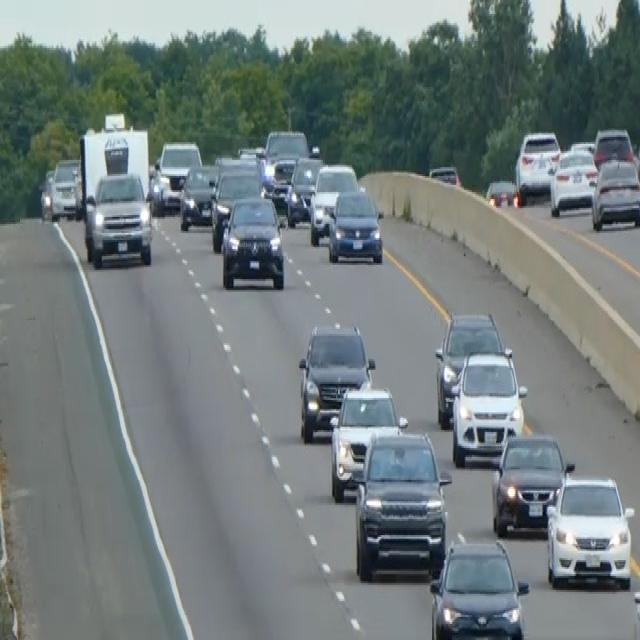car: (353, 427, 451, 581), (545, 470, 634, 590), (428, 537, 529, 638), (328, 382, 407, 502), (297, 320, 374, 443), (450, 345, 527, 466), (490, 430, 573, 537), (434, 310, 504, 428), (220, 194, 285, 290), (209, 162, 264, 250), (327, 185, 384, 263), (309, 160, 358, 245), (151, 137, 202, 213), (590, 155, 639, 231), (549, 144, 598, 217), (514, 128, 561, 201), (285, 153, 323, 226), (178, 162, 218, 231), (261, 126, 309, 178), (262, 153, 299, 219), (49, 156, 81, 218), (593, 124, 634, 169), (213, 151, 261, 178), (484, 176, 519, 208), (38, 167, 56, 221), (428, 162, 460, 186)
truck: (75, 112, 154, 268)
